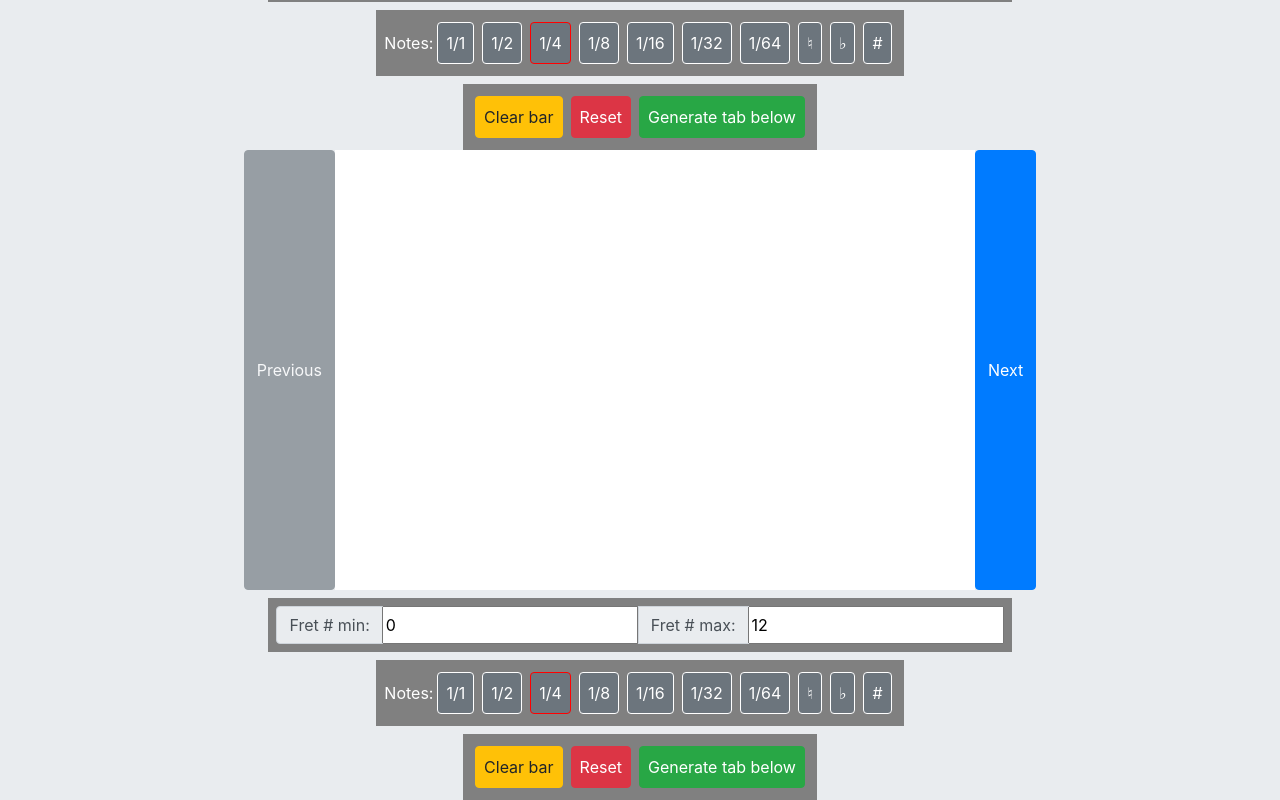
Scenario: should draw a tab table
(page scrolled)
Click the button with id "build-table-btn" at x=722, y=767, box [639,746,805,788]
(page scrolled)
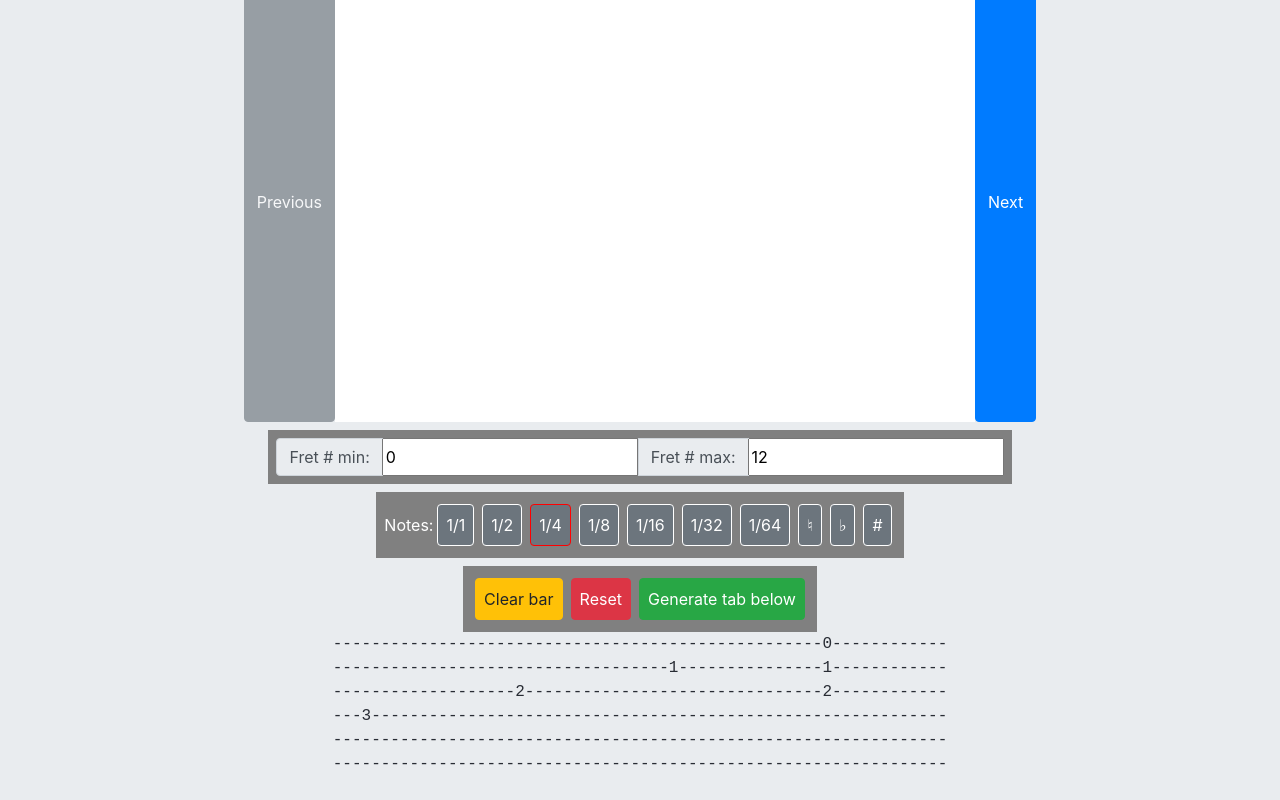
Check: the element with id "tab-table" is shown, box [0,632,1279,799]
